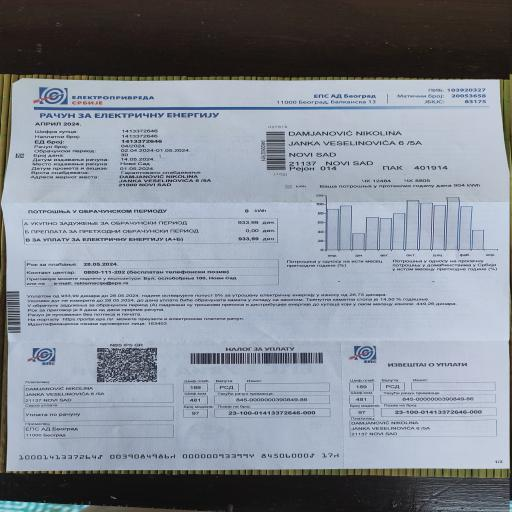racun_za_struju: (19, 202, 286, 268)
